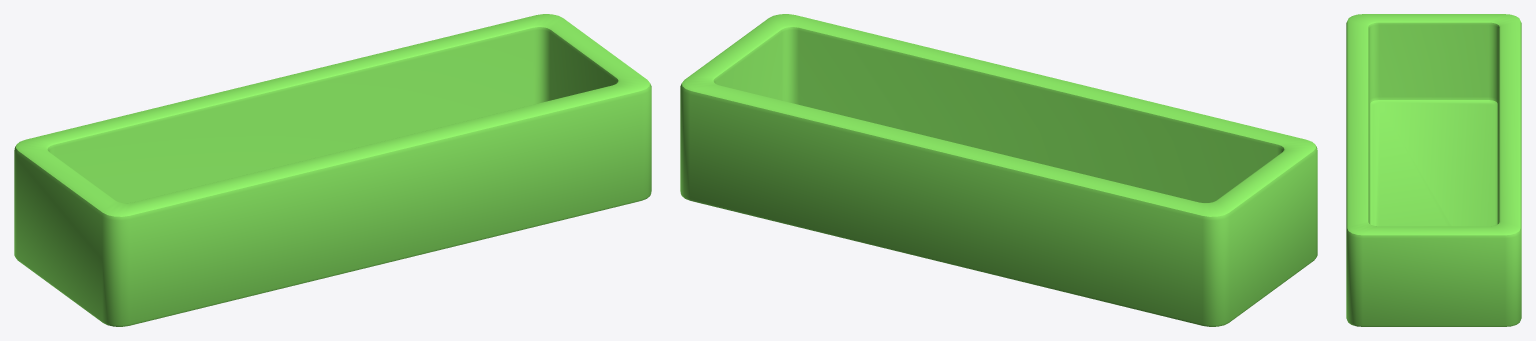
3 renders of one model, left to right at view 1: azimuth 30°, elevation 25°; view 2: azimuth 150°, elevation 25°; view 3: azimuth 270°, elevation 25°, orthographic. The views are drawn at different scales.
Parts seen in each view (by area): view 1: Shape_3x1; view 2: Shape_3x1; view 3: Shape_3x1.
Boxes of the visible parts, <box> form: Shape_3x1: <box>14,14,651,326</box>; Shape_3x1: <box>680,14,1317,326</box>; Shape_3x1: <box>1346,14,1521,326</box>.
Size of the model in its own units: 2.55 by 0.5 by 0.85.
